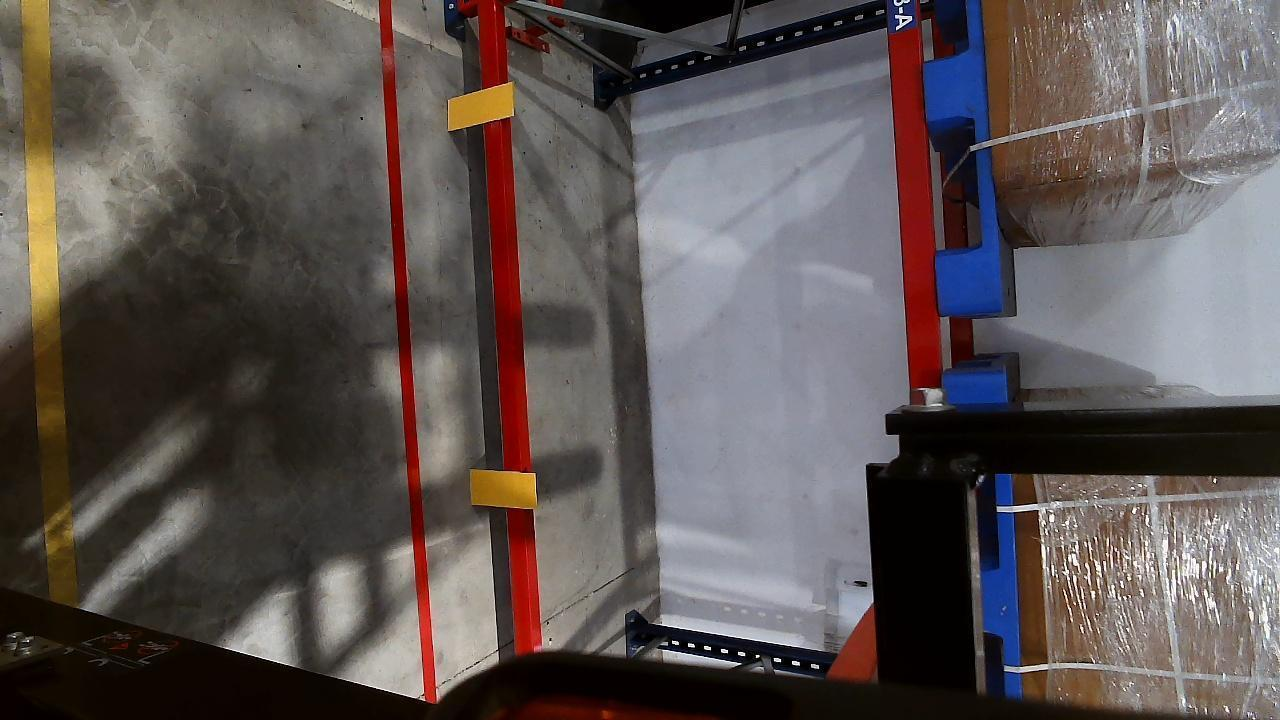red_line: (381, 5, 430, 662)
yellow_line: (17, 0, 74, 607)
